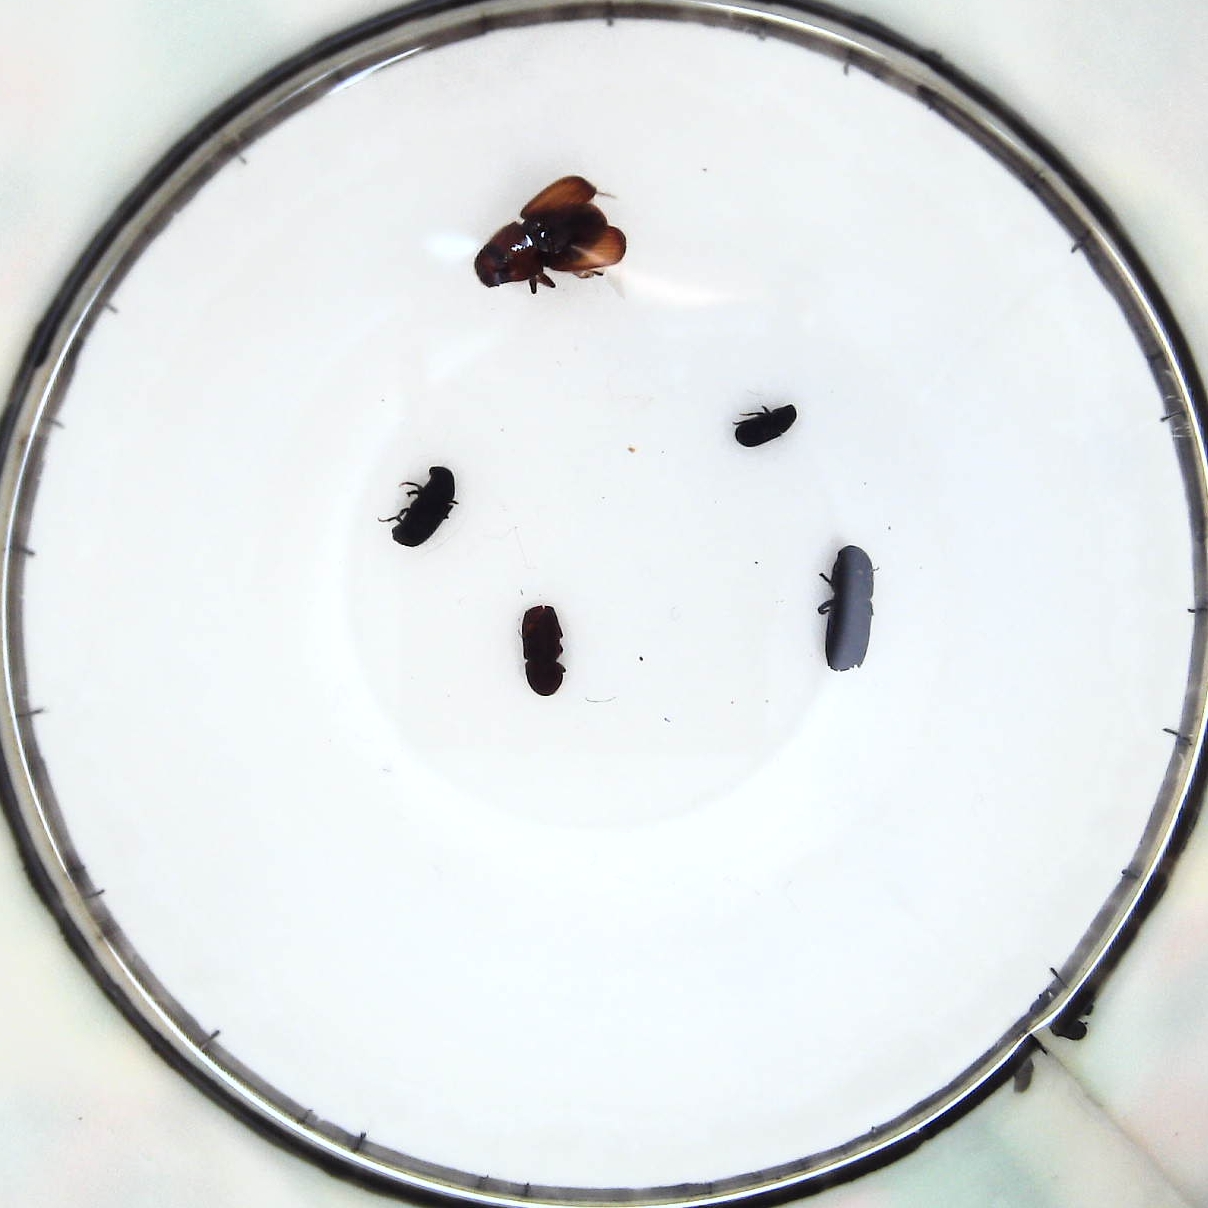Boerner: (813, 539, 879, 683)
Leconte: (476, 176, 625, 298)
Linnaeus: (520, 603, 569, 692)
armandi: (381, 461, 457, 546)
coleoptera: (732, 403, 796, 461)
